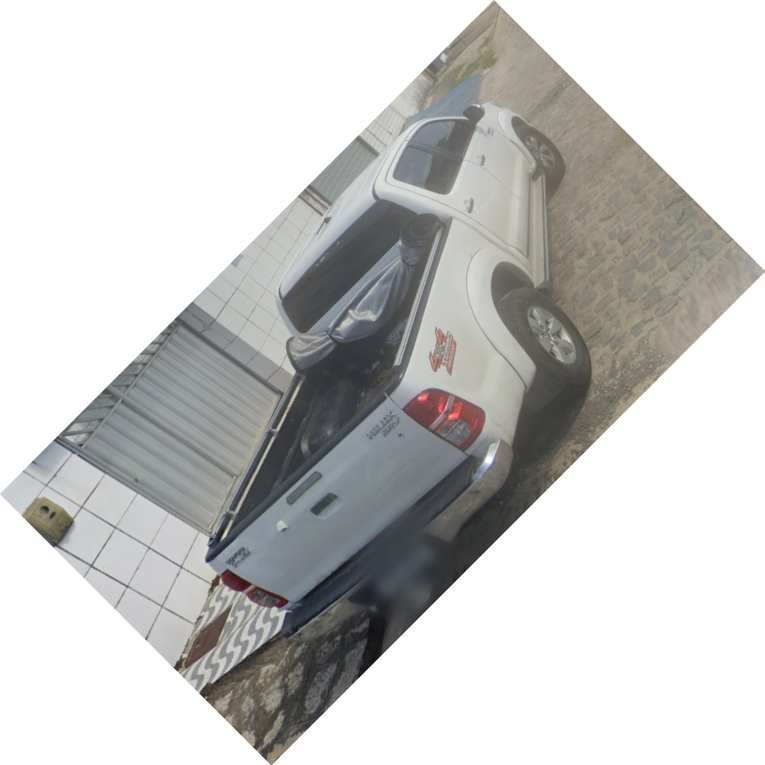car: (202, 101, 592, 629)
